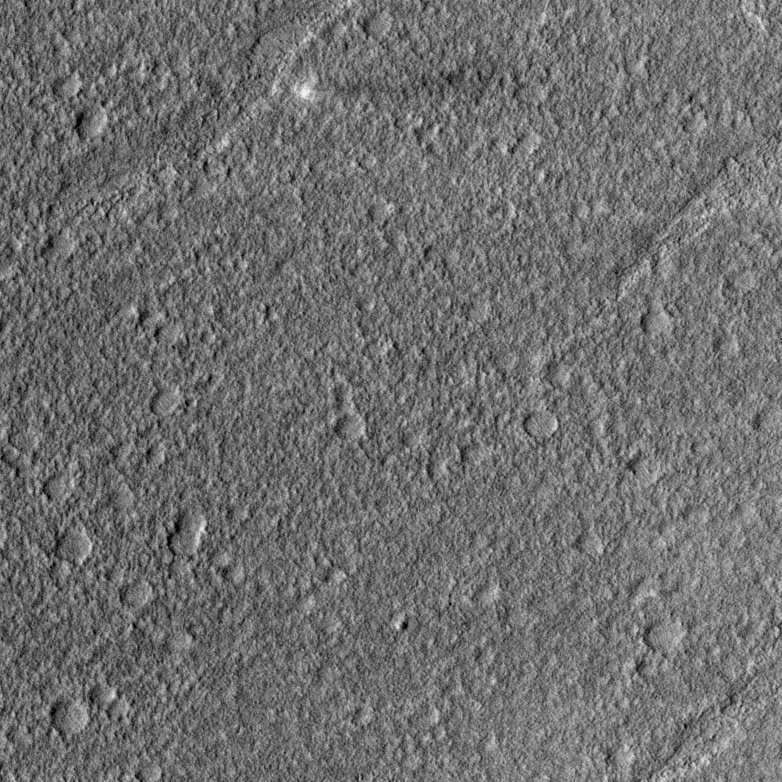dust_devil: (292, 68, 461, 103)
